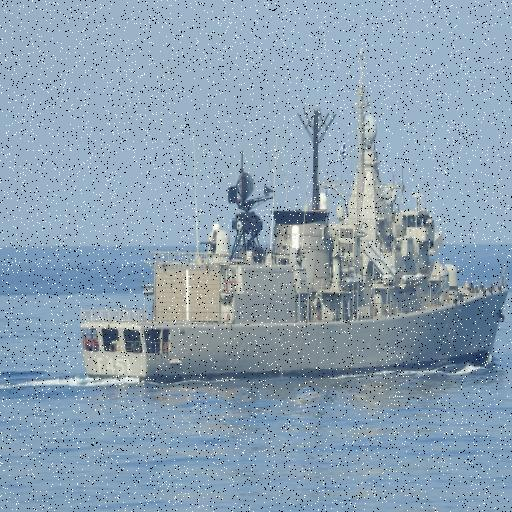Fragata: (76, 42, 512, 384)
